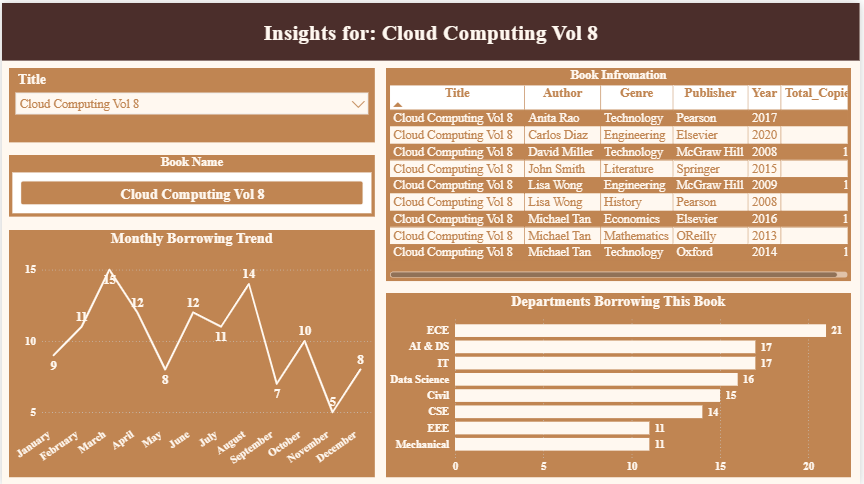

What the dashboard file says about the page in this screenshot:
{"tool":"powerbi","page":{"name":"Page 3","canvas":[1280,720],"ordinal":2},"visuals":[{"type":"slicer","fields":{"Values":["Books.Title"]},"box":[10.8,96.9,546.2,110.8],"z":0},{"type":"cardVisual","title":"Book Name","fields":{"Data":["Min(Books.Title)"]},"box":[10.8,226.2,546.2,92.3],"z":1000},{"type":"tableEx","title":"Book Infromation","fields":{"Values":["Books.Title","Books.Author","Books.Genre","Books.Publisher","Books.Year","Books.Total_Copies"]},"box":[573.8,96.9,693.8,318.5],"z":2000},{"type":"lineChart","title":"Monthly Borrowing Trend","fields":{"Category":["Transactions.Issue_Date.Variation.Date Hierarchy.Month"],"Y":["CountNonNull(Transactions.Transaction_ID)"]},"box":[10.8,338.5,546.2,369.2],"z":3000},{"type":"clusteredBarChart","title":"Departments Borrowing This Book","fields":{"Y":["CountNonNull(Transactions.Transaction_ID)"],"Category":["Members.Department"]},"box":[573.8,432.3,693.8,275.4],"z":4000},{"type":"actionButton","box":[10.8,23.1,44.6,40],"z":5000},{"type":"card","fields":{"Values":["Books.Selected Book Title"]},"box":[0,0,1280,85.7],"z":6000}]}

Visuals, with their boxes in screenshot pixels (x1, y1, x2, y2), scaled from the page's 1280x720 canvas onto the 864x484 screenshot:
slicer - Books.Title: crop(7, 65, 376, 140)
"Book Name" cardVisual: crop(7, 152, 376, 214)
"Book Infromation" tableEx: crop(387, 65, 856, 279)
"Monthly Borrowing Trend" lineChart: crop(7, 228, 376, 476)
"Departments Borrowing This Book" clusteredBarChart: crop(387, 291, 856, 476)
actionButton: crop(7, 16, 37, 42)
card - Books.Selected Book Title: crop(0, 0, 863, 58)
